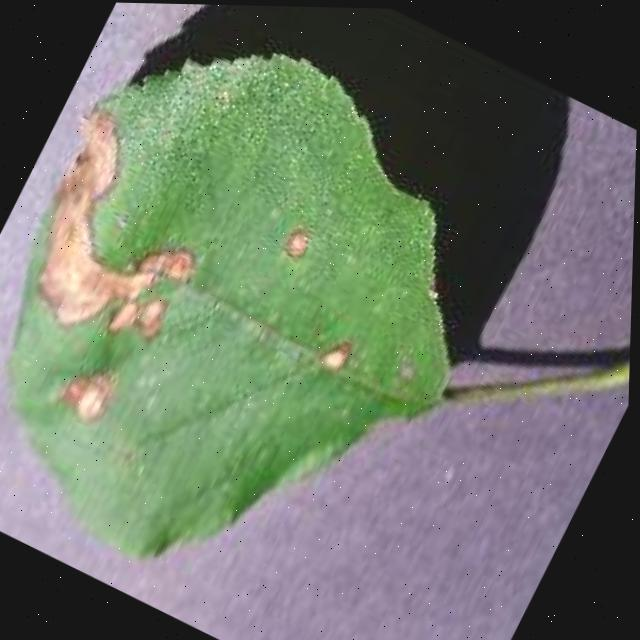black_rot: (0, 77, 273, 389), (39, 352, 137, 446), (303, 322, 365, 388), (269, 215, 330, 282)
